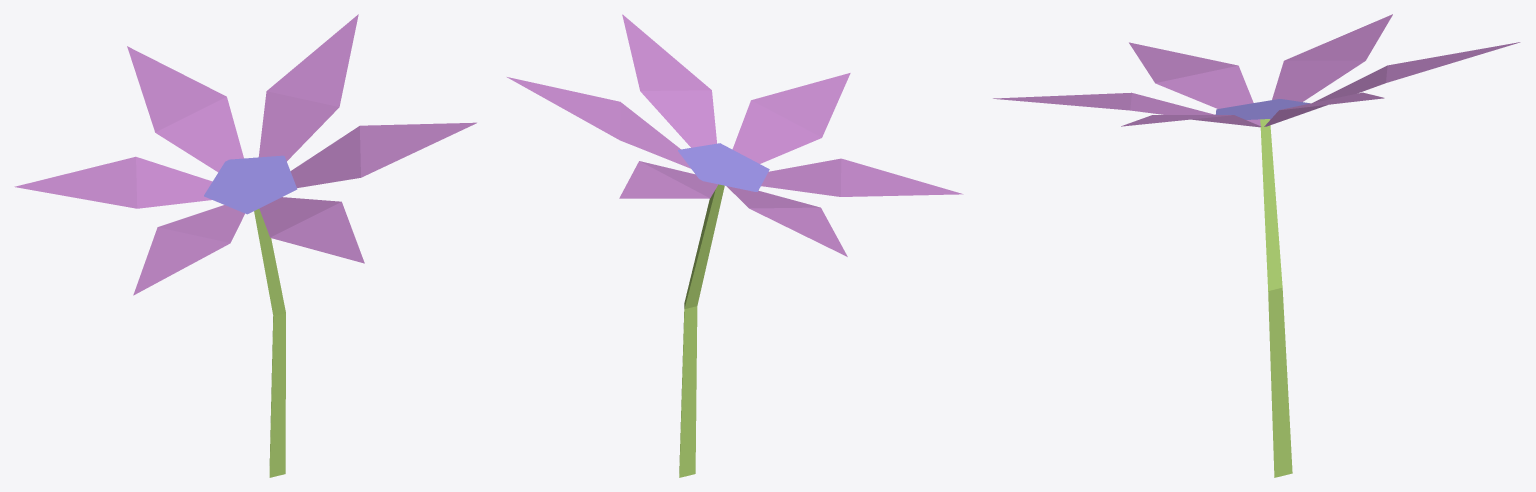
The model's file is Flower_b_TwoS_02.fbx.
3 views of the same model, side by side, from view 1: azimuth 30°, elevation 25°; view 2: azimuth 150°, elevation 25°; view 3: azimuth 270°, elevation 25° (orthographic). The views are drawn at different scales.
Parts seen in each view (by area): view 1: Flower_b_TwoS_02; view 2: Flower_b_TwoS_02; view 3: Flower_b_TwoS_02.
Boxes of the visible parts, x1=… form: Flower_b_TwoS_02: x1=14, y1=14, x2=476, y2=477; Flower_b_TwoS_02: x1=507, y1=14, x2=963, y2=477; Flower_b_TwoS_02: x1=993, y1=14, x2=1520, y2=477.
Size of the model in its own units: 33.37 by 36.65 by 39.29.
